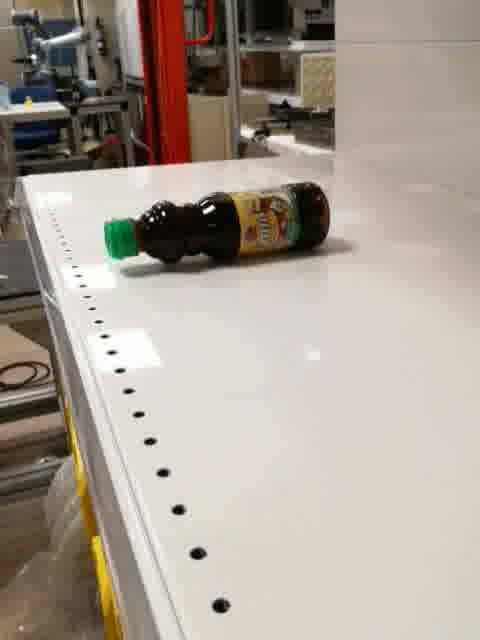cookingoil: (102, 178, 335, 269)
